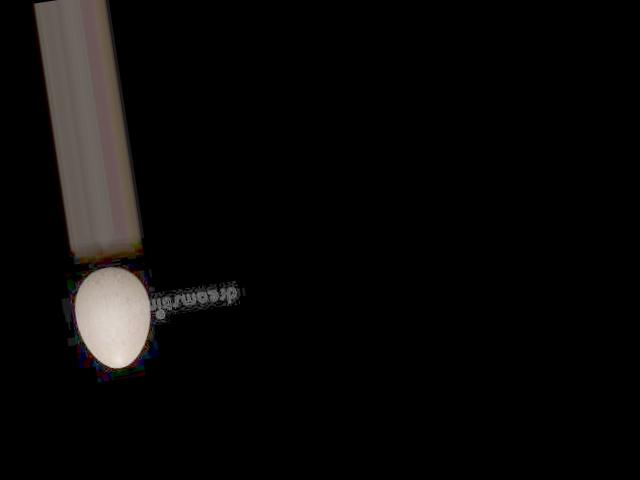egg: (69, 261, 157, 373)
